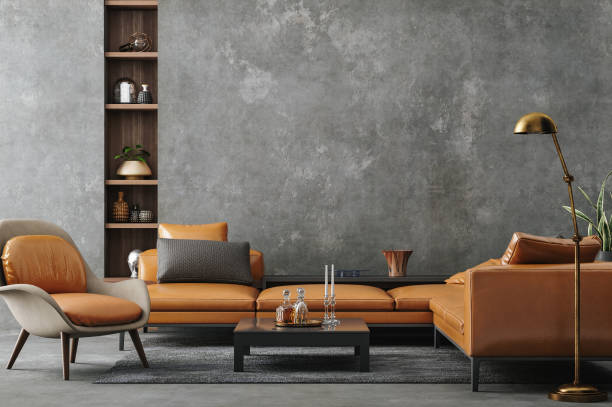chair: (0, 217, 151, 382)
floor lamp: (511, 109, 606, 404)
sofa: (136, 218, 612, 394)
table: (231, 315, 372, 375)
